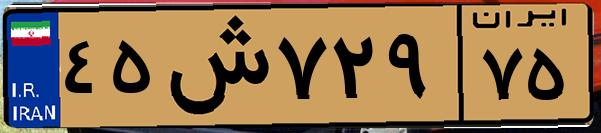2: (330, 28, 385, 110)
4: (57, 26, 110, 100)
5: (525, 38, 570, 115), (110, 28, 158, 98)
7: (270, 28, 330, 110), (475, 38, 525, 113)
9: (385, 28, 445, 110)
ش: (158, 12, 270, 120)
